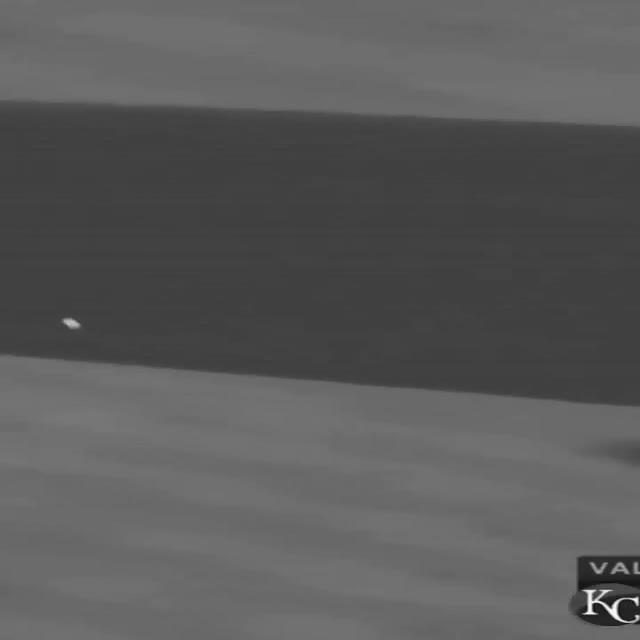baseball: (60, 318, 82, 330)
